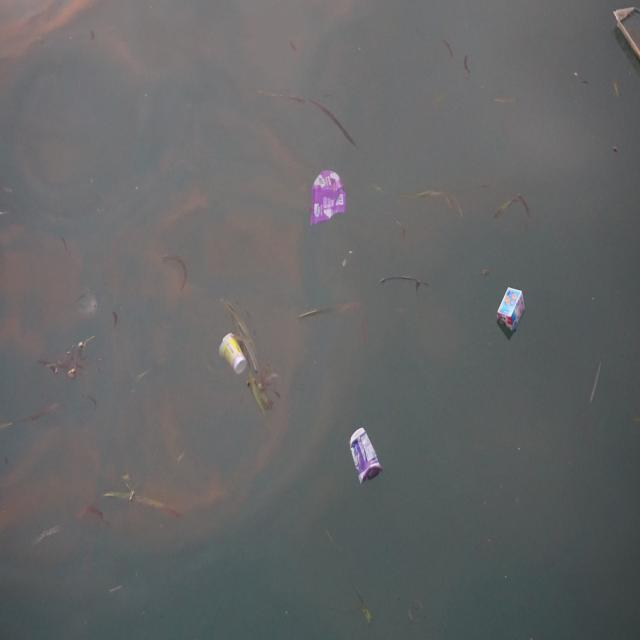Bungkus Minuman: (349, 423, 386, 490), (218, 325, 251, 382)
